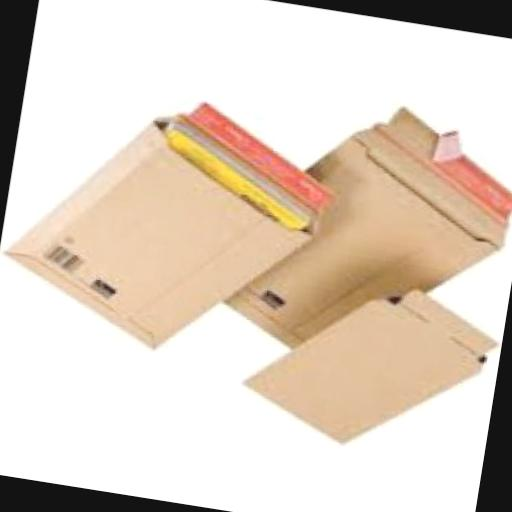cardboard: (0, 72, 341, 375), (209, 81, 512, 381), (230, 264, 500, 467)
